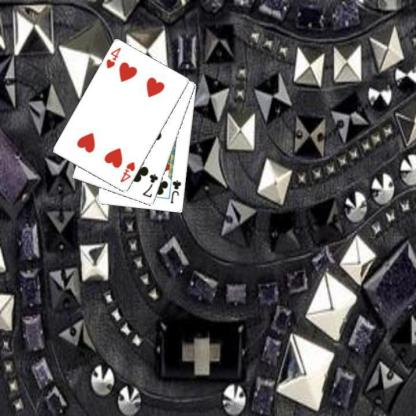4H: (103, 45, 122, 70), (118, 159, 136, 184)
7C: (140, 172, 159, 198)
JC: (168, 178, 183, 205)
